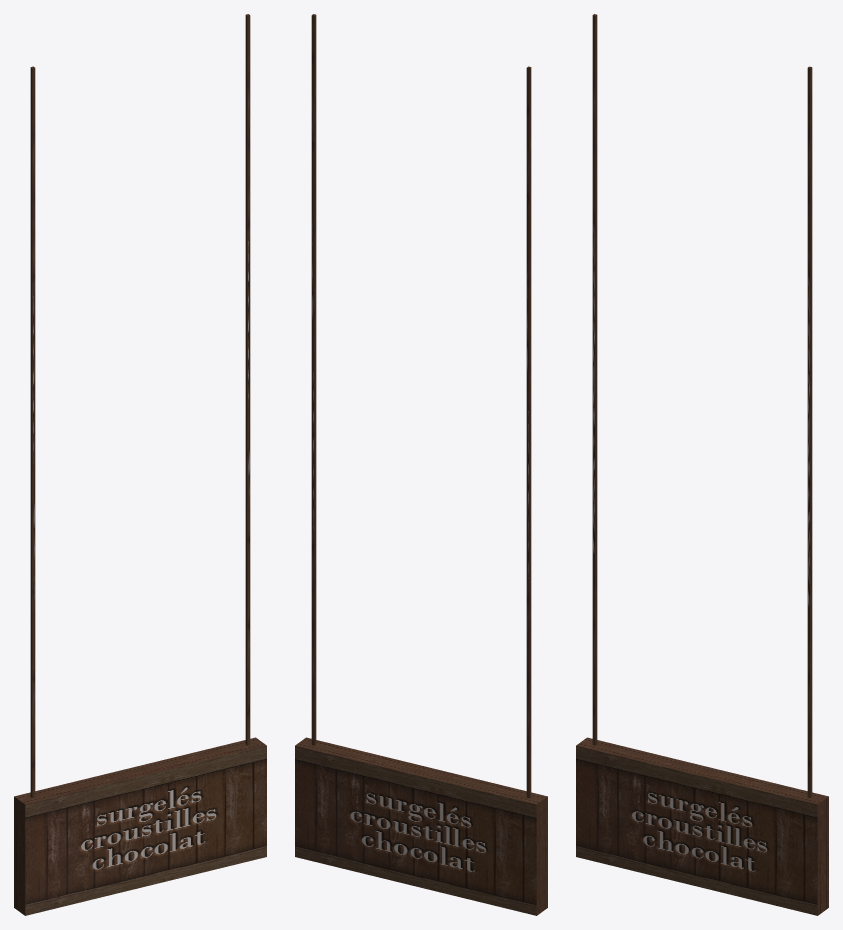
The model's file is SM_Signs_00.FBX.
3 renders of one model, left to right at view 1: azimuth 30°, elevation 25°; view 2: azimuth 150°, elevation 25°; view 3: azimuth 330°, elevation 25°, orthographic.
Parts seen in each view (by area): view 1: SM_Signs_00; view 2: SM_Signs_00; view 3: SM_Signs_00.
Part boxes in pixels (<box>): SM_Signs_00: <box>14,14,266,915</box>; SM_Signs_00: <box>295,14,547,915</box>; SM_Signs_00: <box>576,14,828,915</box>.
Size of the model in its own units: 67.88 by 226 by 5.42.
